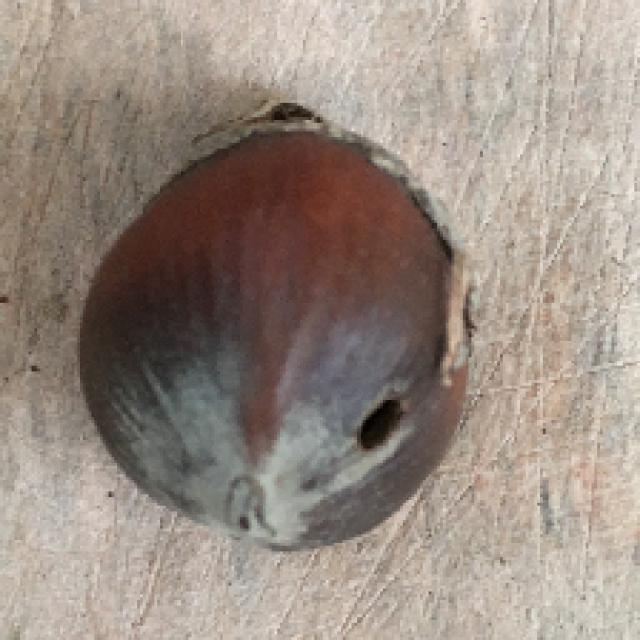damagedHazelnut: (79, 106, 477, 557)
